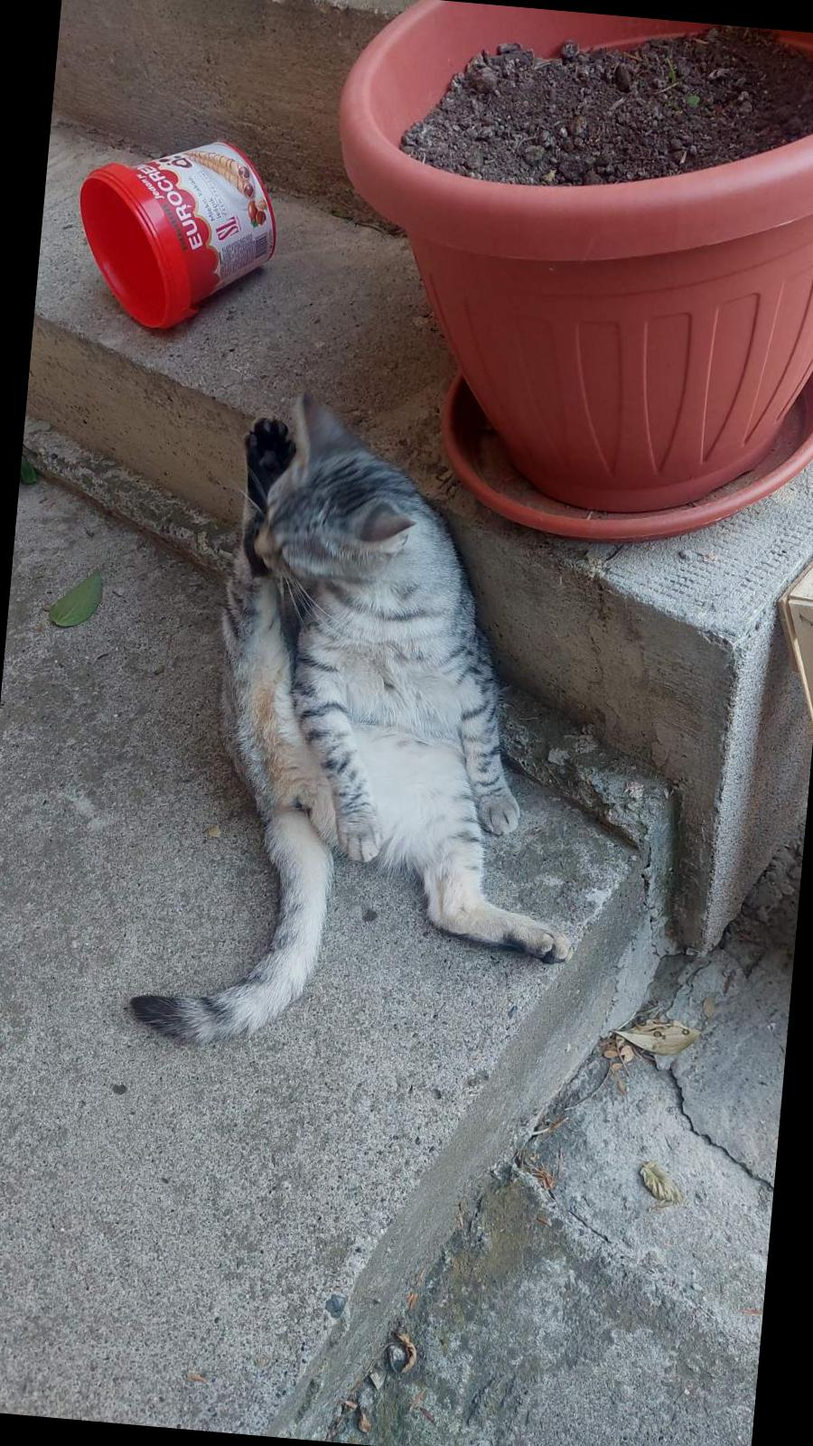macka: (126, 366, 618, 1072)
